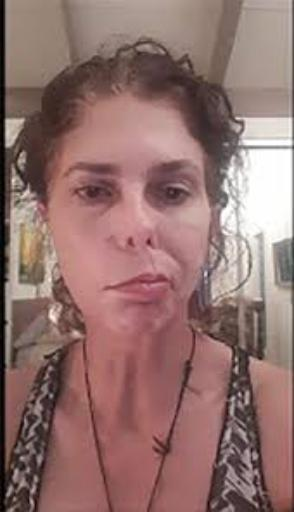left_eye: (156, 183, 193, 208)
left_lip_corner: (160, 273, 175, 293)
right_eye: (72, 183, 114, 212)
right_lip_corner: (102, 279, 119, 302)
